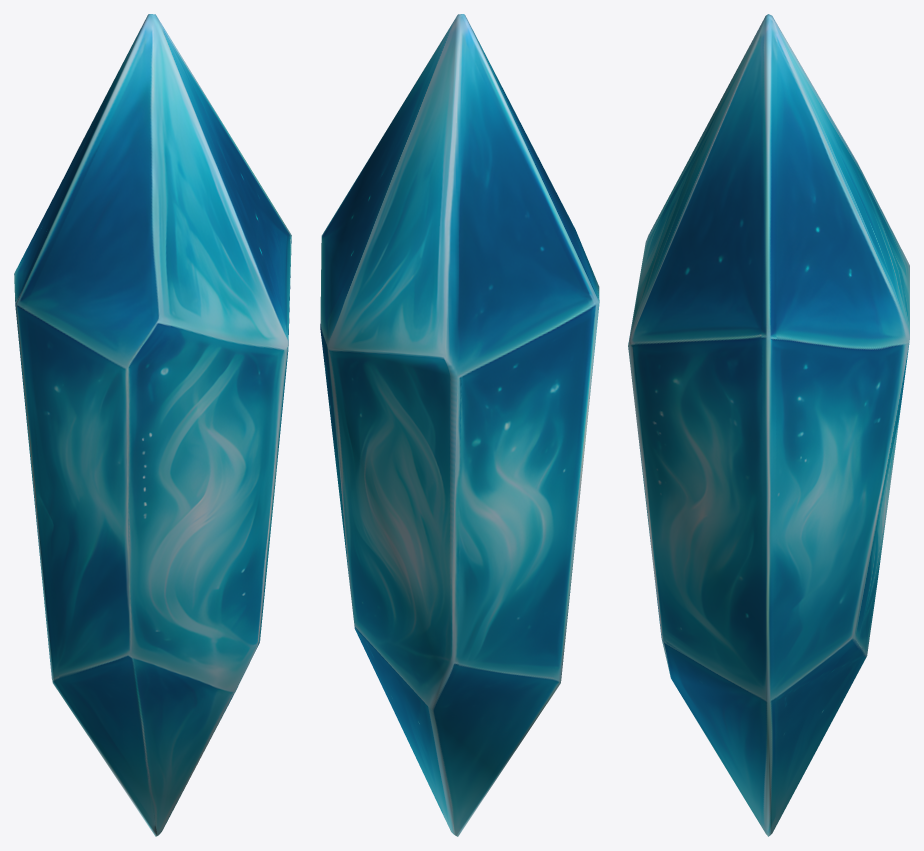
Rendered from gem.glb.
The picture shows the model from 3 angles, left to right: view 1: azimuth 30°, elevation 25°; view 2: azimuth 150°, elevation 25°; view 3: azimuth 270°, elevation 25°; orthographic projection.
Visible parts, largest first — view 1: material; view 2: material; view 3: material.
Boxes of the visible parts, x1=… form: material: x1=14, y1=14, x2=291, y2=836; material: x1=320, y1=14, x2=599, y2=836; material: x1=628, y1=14, x2=909, y2=836.
Bounding box in the file's own units: 0.6666 × 1.9 × 0.5923.
1 material, 1 textured.
